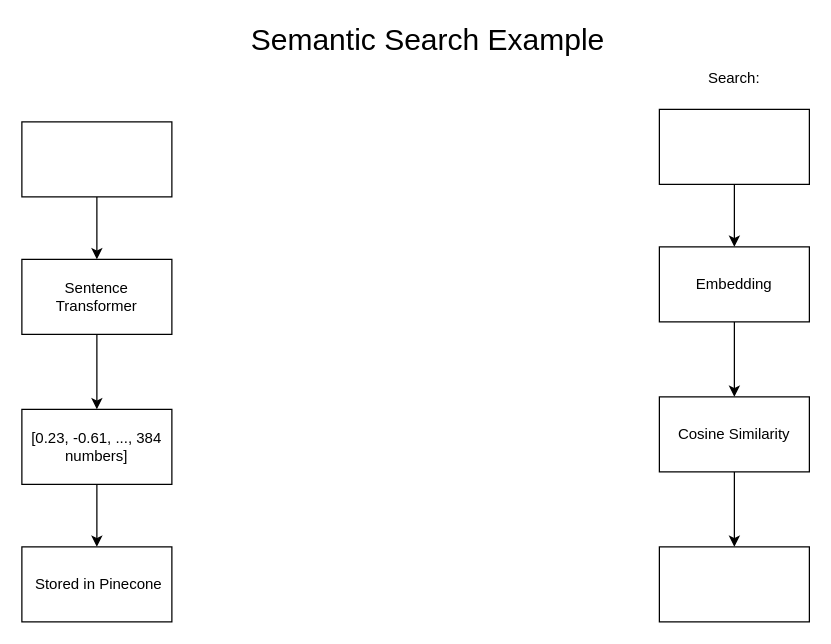
This 831x644 diagram has some shape labels left out. The centre of each missing label's shape, as x and y in pixels:
"I drink coffee": pixel 733 146
"I made homemade cappuccino": pixel 96 159
Post Found: pixel 733 584
